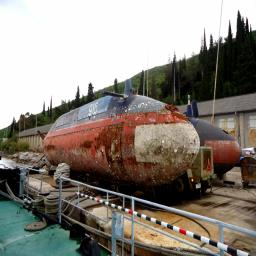submarine: (37, 81, 199, 192), (138, 89, 244, 175)
